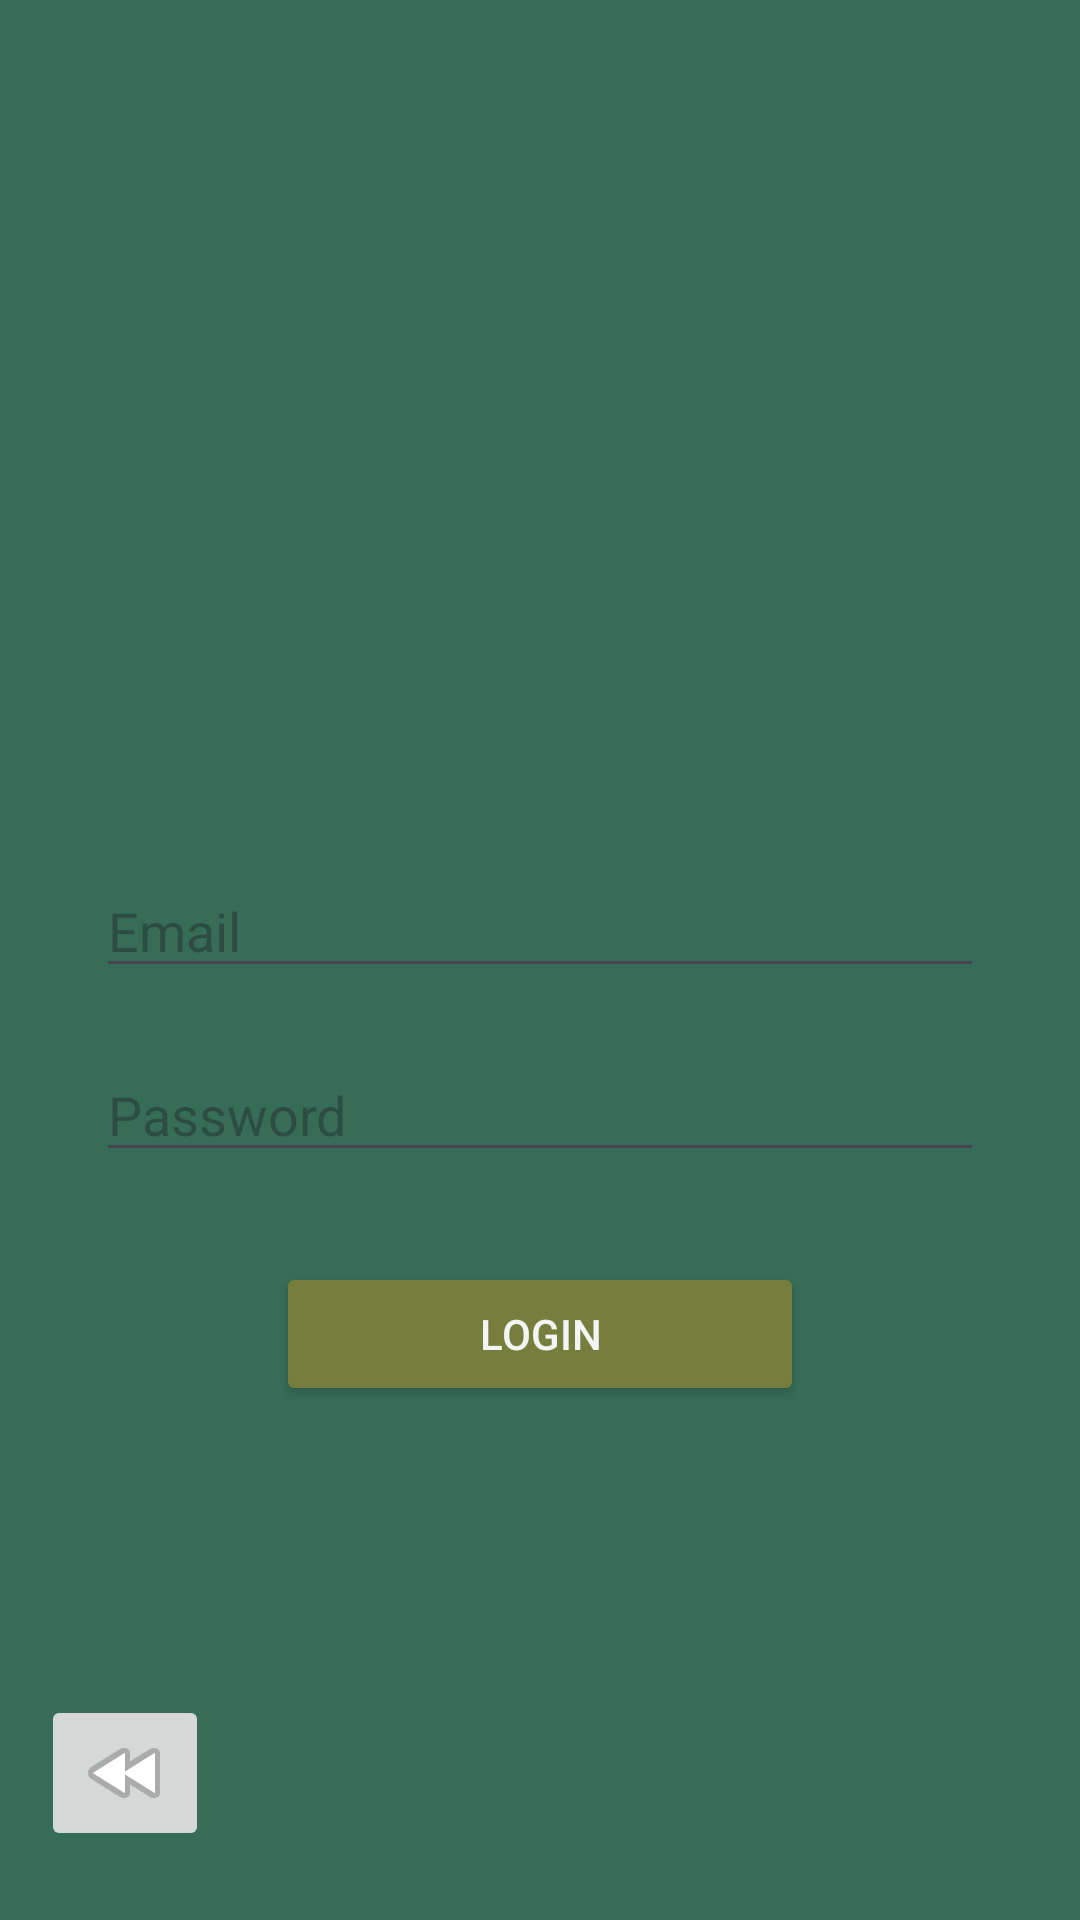

Icon bounding boxes for this 1080x1920 phone screenshot, format (x1, y1, x2, y2):
rew: (53, 1713, 197, 1833)
